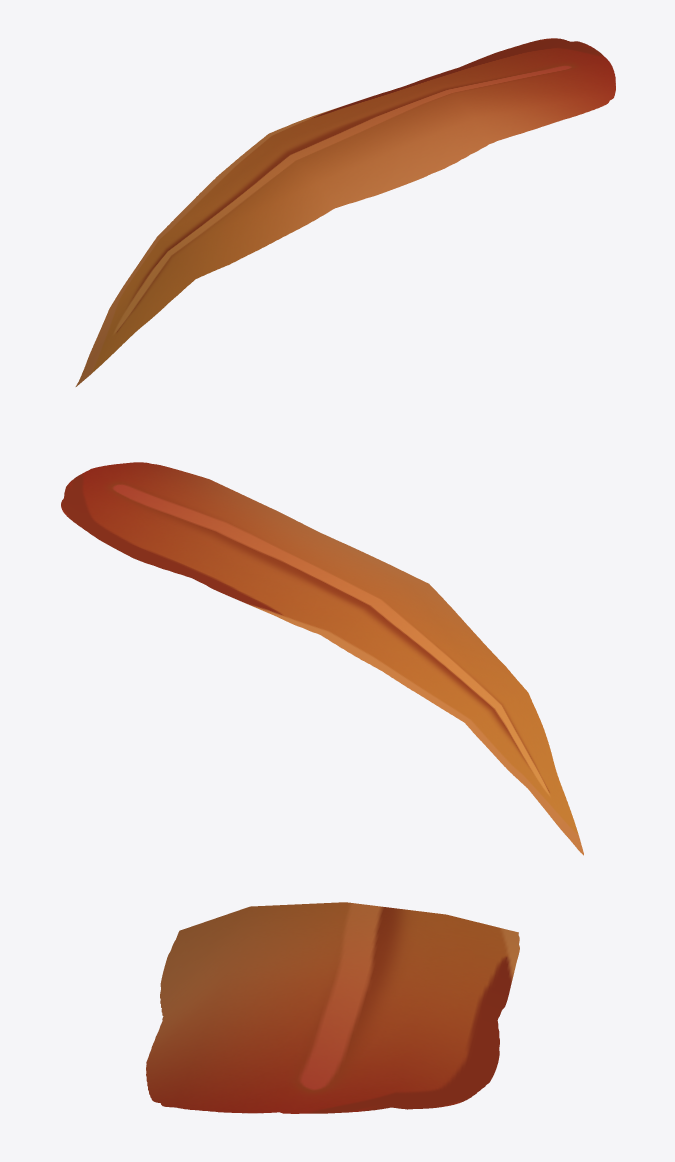
Rendered from HojaBasicaNaranja.fbx.
3 renders of one model, top to bottom at view 1: azimuth 30°, elevation 25°; view 2: azimuth 150°, elevation 25°; view 3: azimuth 270°, elevation 25°, orthographic. The views are drawn at different scales.
Parts seen in each view (by area): view 1: HojaBasicaNaranja; view 2: HojaBasicaNaranja; view 3: HojaBasicaNaranja.
Part boxes in pixels (x1=…): HojaBasicaNaranja: x1=75, y1=38, x2=615, y2=386; HojaBasicaNaranja: x1=61, y1=462, x2=583, y2=855; HojaBasicaNaranja: x1=146, y1=902, x2=519, y2=1113.
Size of the model in its own units: 332 by 135 by 145.
1 material, 1 textured.
